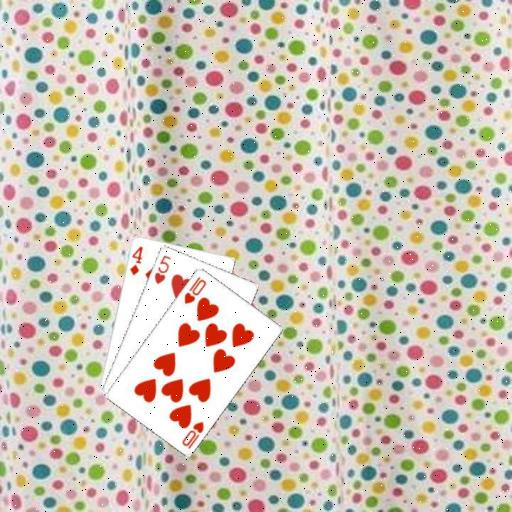10H: (181, 273, 208, 305), (179, 418, 206, 450)
4D: (127, 243, 144, 277)
5H: (151, 252, 173, 286)
